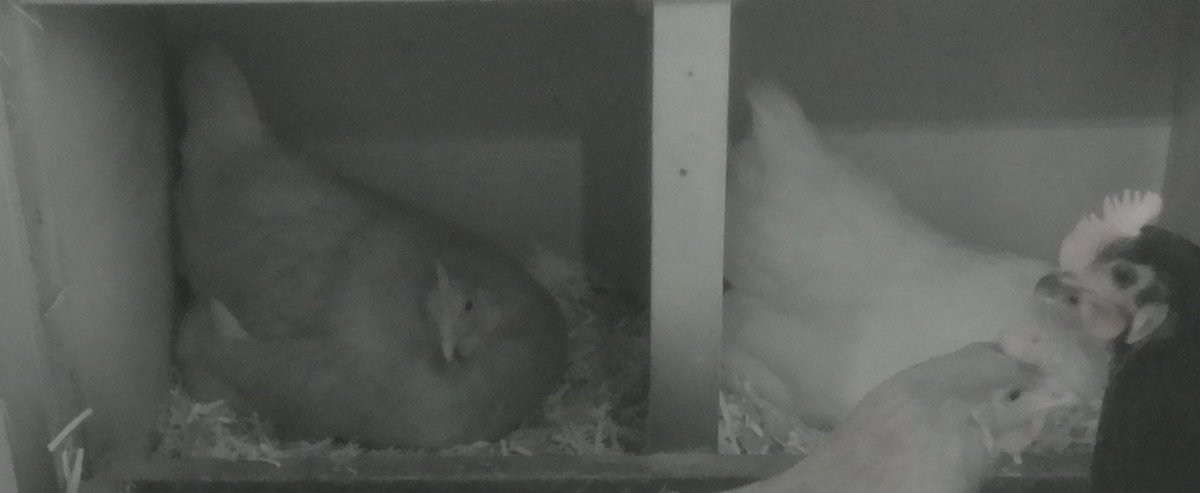hen: (157, 60, 577, 452), (737, 76, 1049, 352), (729, 324, 1090, 493), (1030, 180, 1193, 493)
